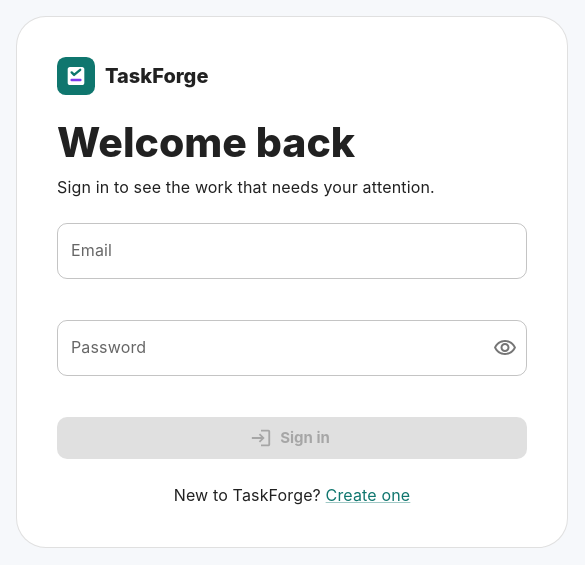
Test: AuthPage › keeps submit disabled until the form has a valid email and password
Expected: the button "Sign in" is disabled, x1=57 y1=417 x2=527 y2=459
Type "person@taskforge.local" into the field labelled "Email" at (292, 251), box x1=57 y1=223 x2=527 y2=279
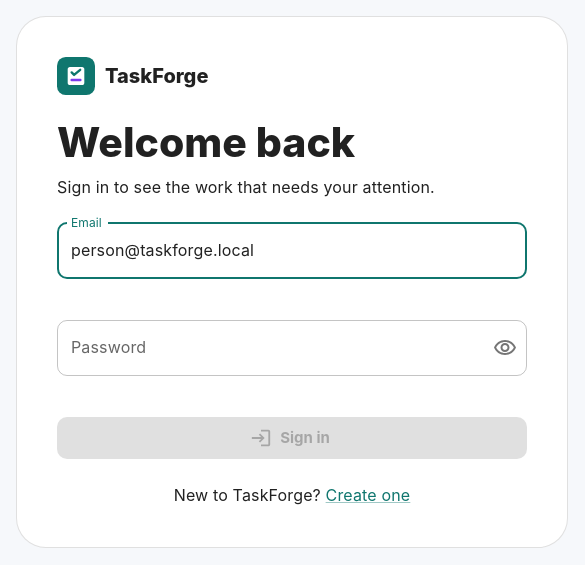
Type "TaskForge123" into the password field labelled "Password" at (267, 348), box x1=57 y1=320 x2=477 y2=376
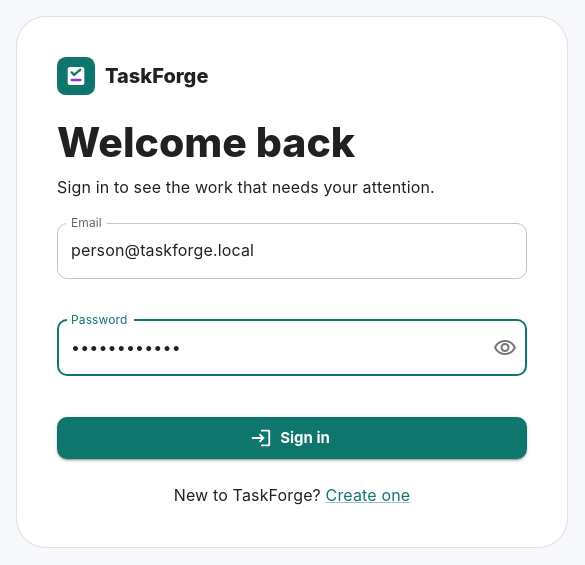
Expected: the button "Sign in" is enabled, x1=57 y1=417 x2=527 y2=459
